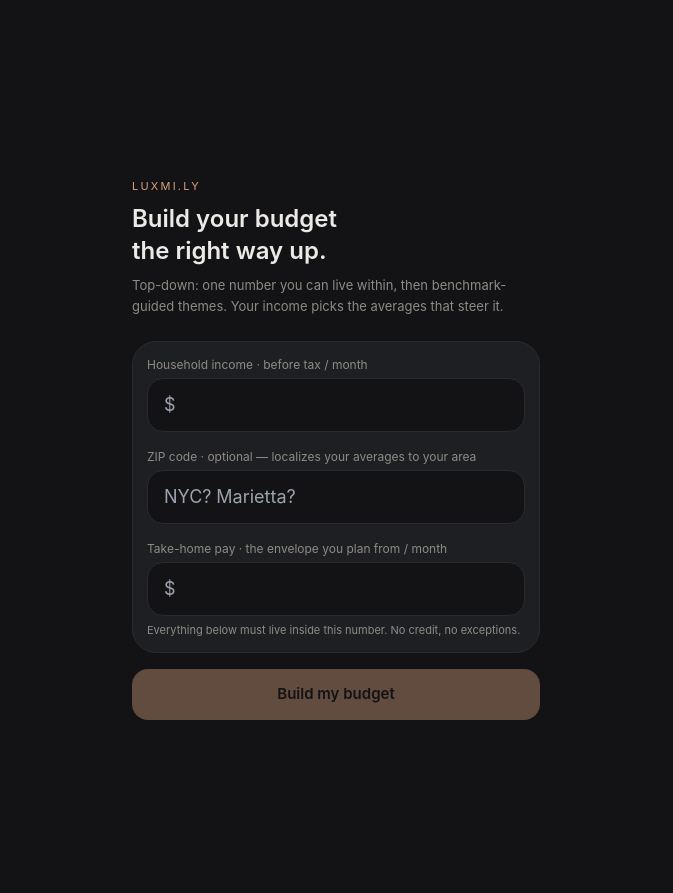
Test: App — an optimizer, not a tracker › localizes for a ZIP on onboarding and keeps income percentile + area on the cap card
Type "10000" into the number field named "Household income before tax per month" at (336, 405), box x1=147 y1=378 x2=525 y2=432
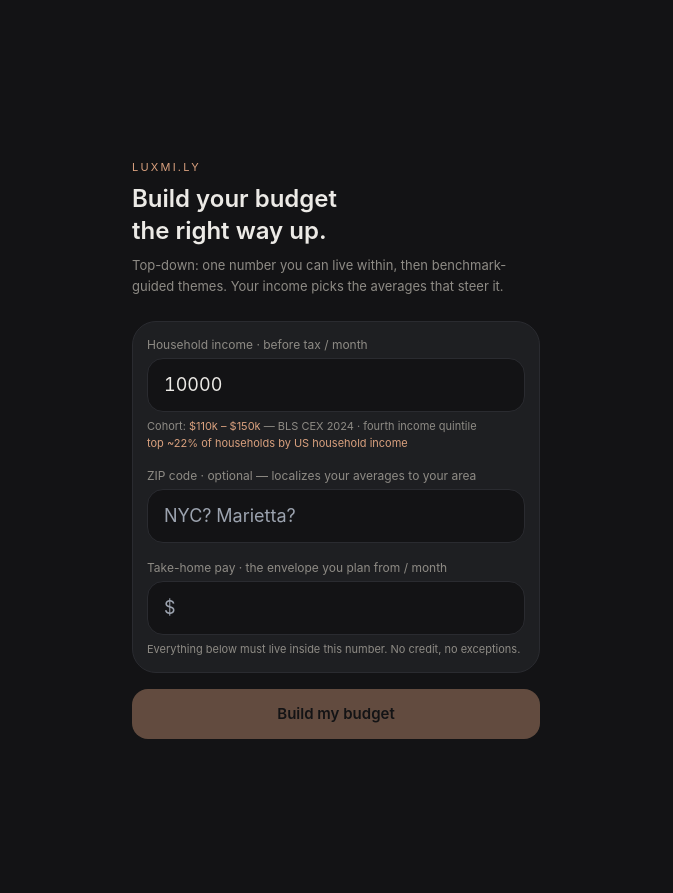
Type "10001" into the field named "Zip code (optional)" at (336, 516), box x1=147 y1=489 x2=525 y2=543
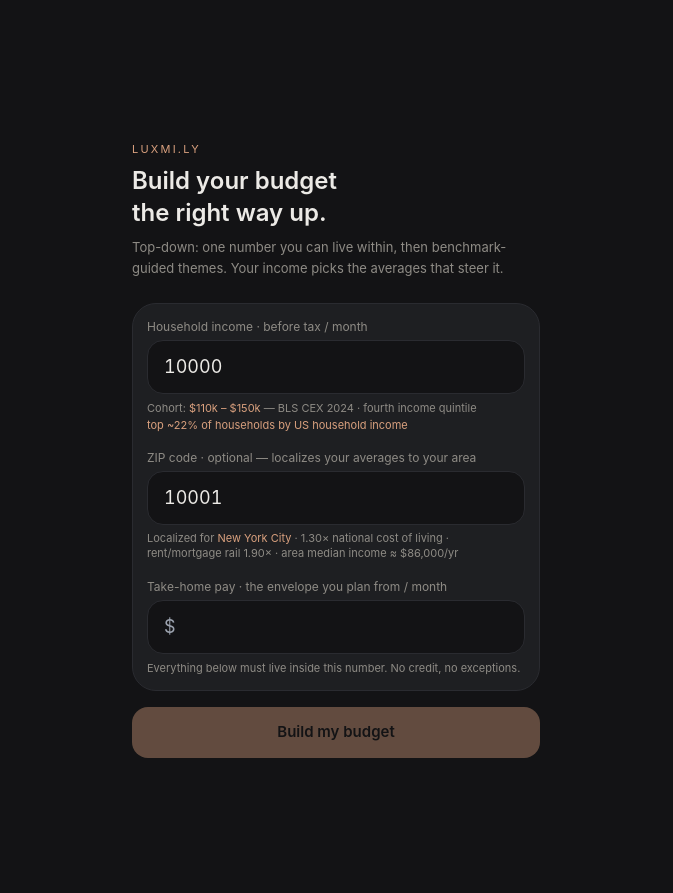
Check: the text "New York City" is shown, box x1=218 y1=531 x2=292 y2=545
Type "6800" into the number field named "Take-home pay per month" at (336, 626), box x1=147 y1=600 x2=525 y2=654
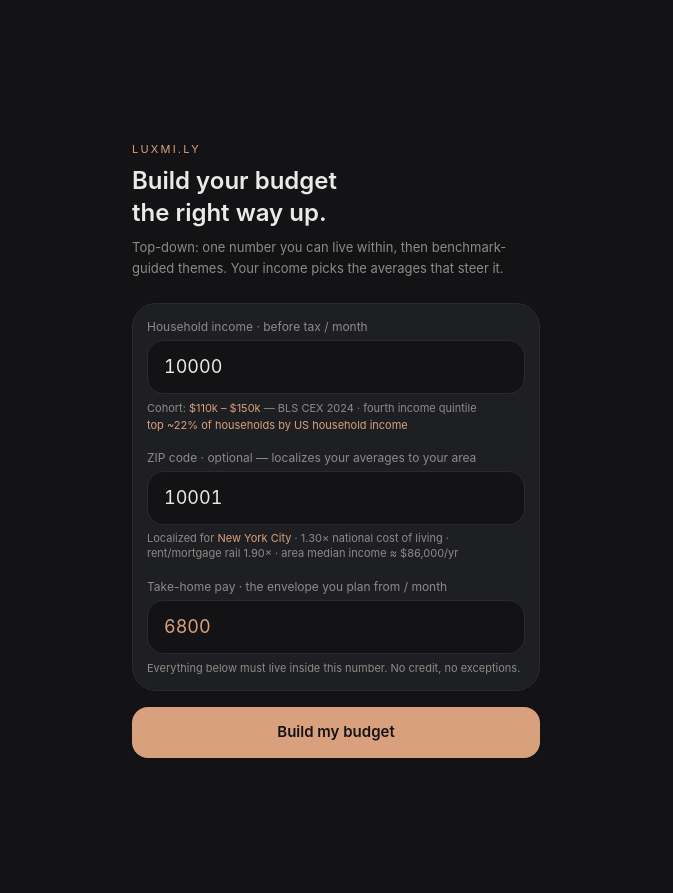
Click the button "Build my budget" at (336, 732), box x1=132 y1=707 x2=540 y2=758
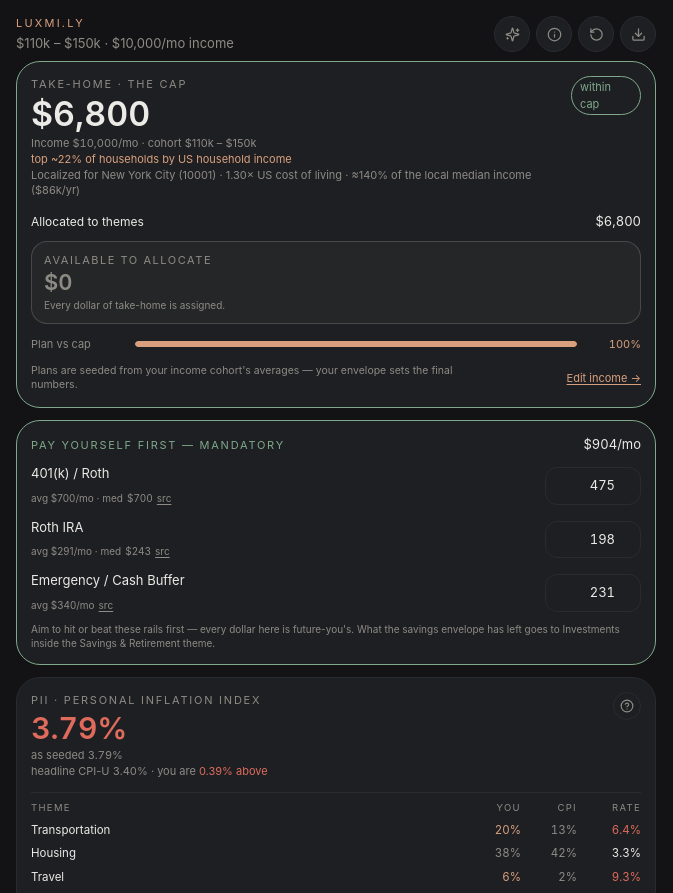
Check: the text "top ~22% of households by US household income" is shown, box x1=31 y1=152 x2=292 y2=166
Check: the text "≈140% of the local median income" is shown, box x1=31 y1=168 x2=571 y2=198
